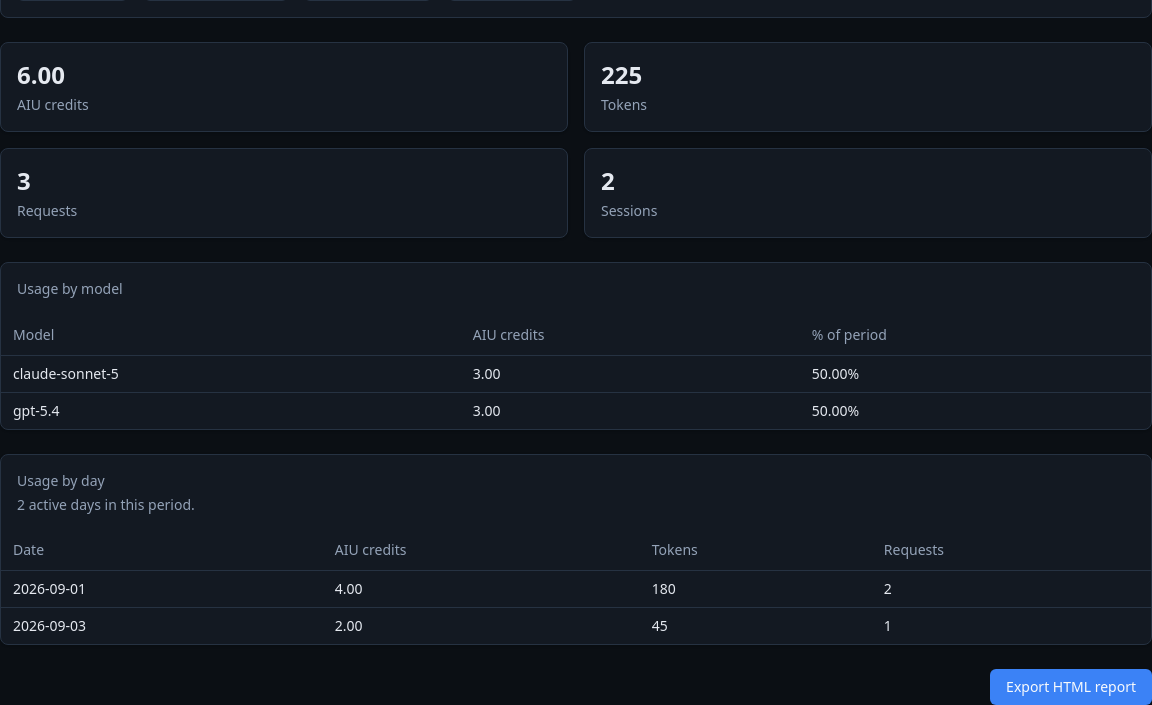
Test: ExportPage › shows an export error alert when the HTML export fails
(page scrolled)
Click the button "Export HTML report".
click(1071, 687)  # box x1=990 y1=669 x2=1151 y2=704
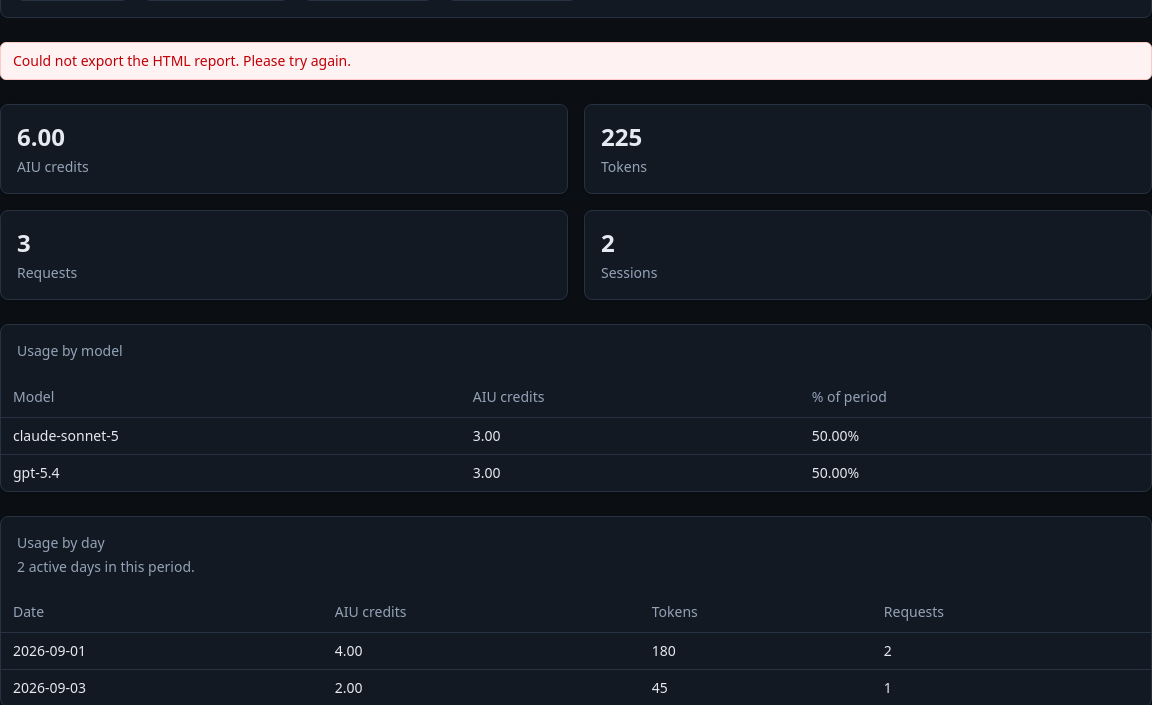
Check: the message reads "Could not export the HTML report. Please try again.", box x1=13 y1=51 x2=351 y2=70
